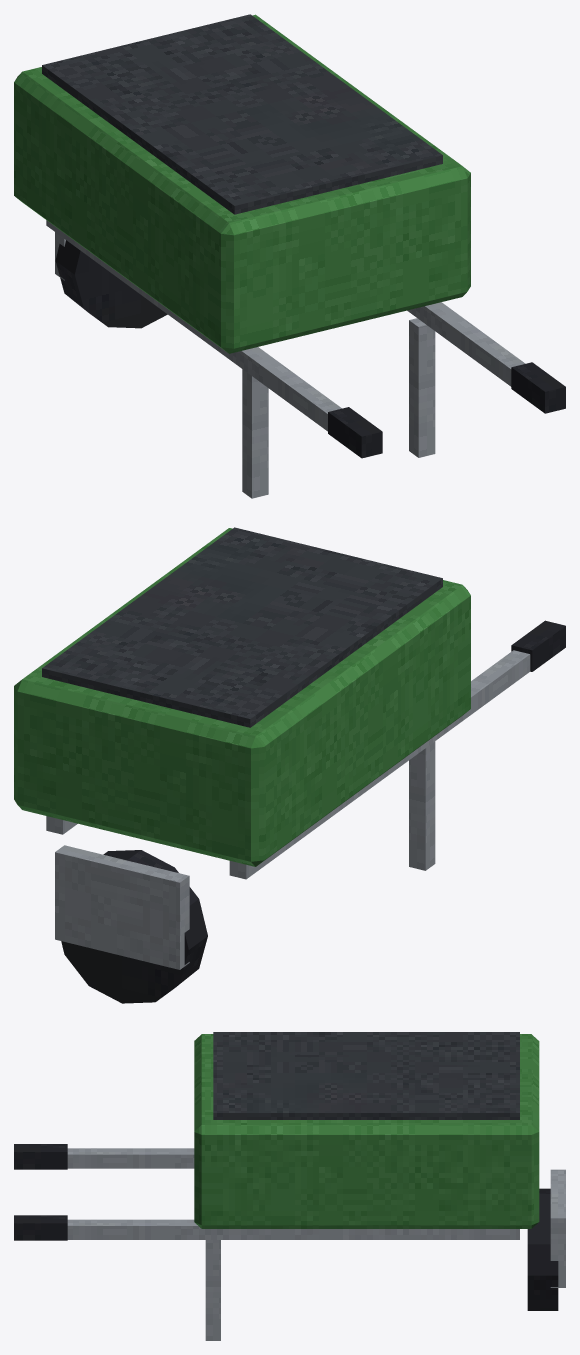
The picture shows the model from 3 angles, top to bottom: view 1: azimuth 30°, elevation 25°; view 2: azimuth 150°, elevation 25°; view 3: azimuth 270°, elevation 25°; orthographic projection. The views are drawn at different scales.
Parts seen in each view (by area): view 1: wheelbarrow; view 2: wheelbarrow; view 3: wheelbarrow.
Boxes of the visible parts, x1,y1,x2,y2 form: wheelbarrow: (14,14,565,498); wheelbarrow: (14,527,565,1003); wheelbarrow: (14,1032,565,1340).
Bounding box in the file's own units: 0.6 × 0.67 × 1.44.
Materials: 4 (4 with a texture image).
